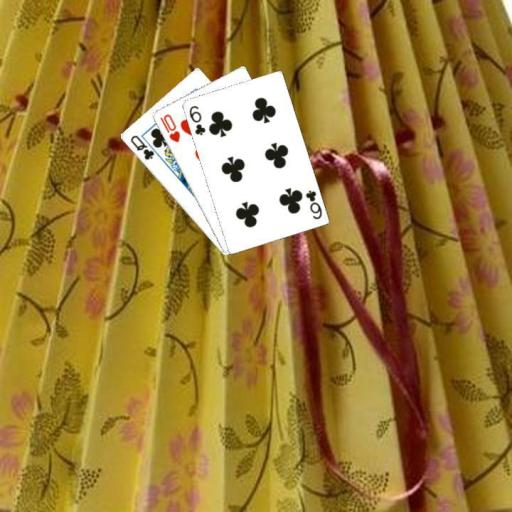10H: (157, 111, 182, 144)
6C: (186, 103, 207, 137), (302, 187, 323, 221)
QC: (127, 132, 156, 162)
